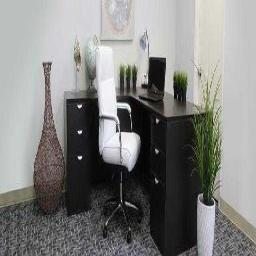Chair: (95, 44, 143, 244)
